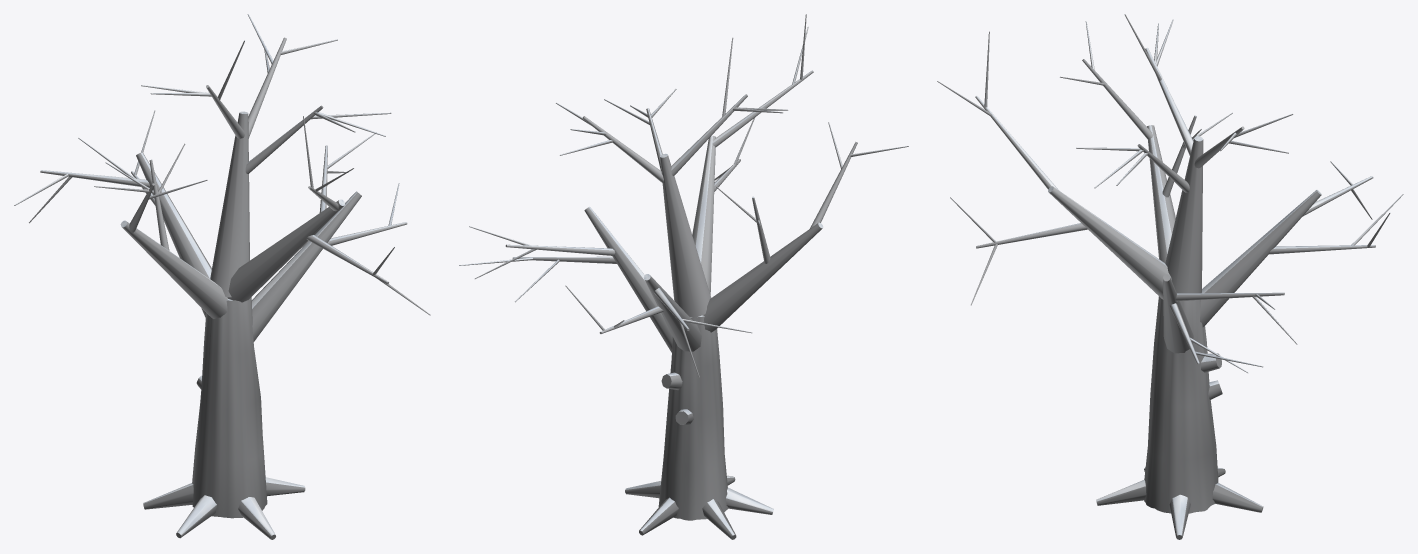
File: frost-dead-tree-v01.glb
3 renders of one model, left to right at view 1: azimuth 30°, elevation 25°; view 2: azimuth 150°, elevation 25°; view 3: azimuth 270°, elevation 25°, orthographic. The views are drawn at different scales.
Parts seen in each view (by area): view 1: dead-tree; view 2: dead-tree; view 3: dead-tree.
Boxes of the visible parts, x1,y1,x2,y2 form: dead-tree: (14,14,430,539); dead-tree: (459,14,908,539); dead-tree: (937,14,1403,539).
Bounding box in the file's own units: 5.88 × 7.01 × 6.11.
2 materials, 1 textured.
